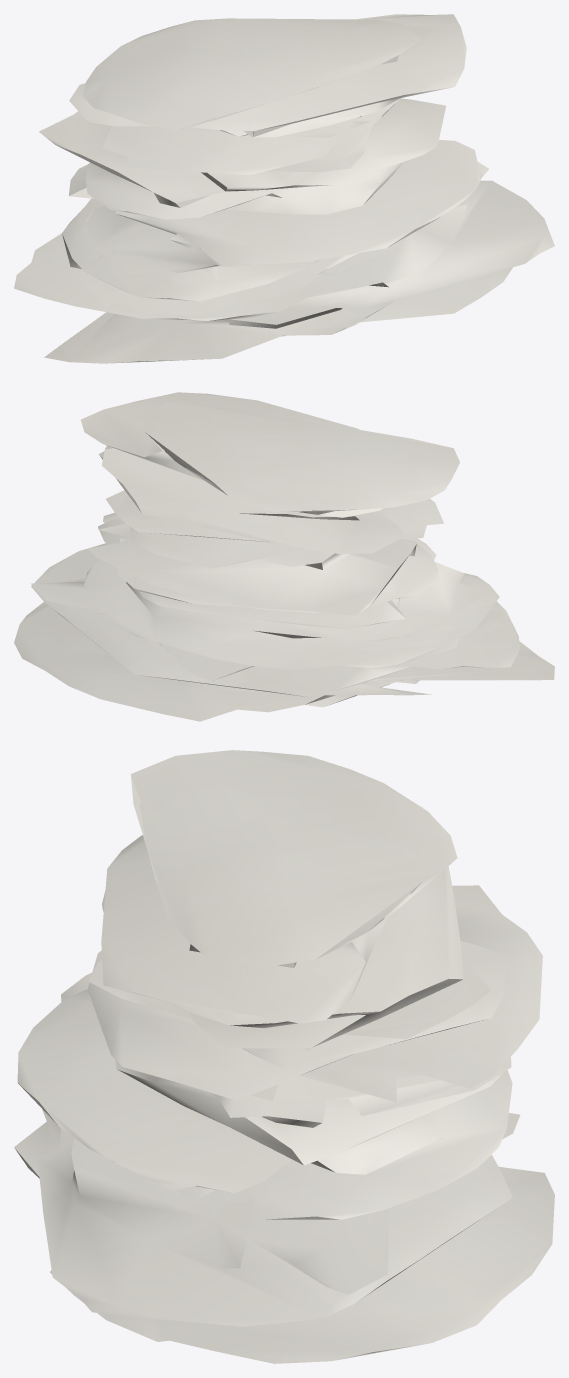
File: mineral_yeso.fbx
3 renders of one model, top to bottom at view 1: azimuth 30°, elevation 25°; view 2: azimuth 150°, elevation 25°; view 3: azimuth 270°, elevation 25°, orthographic. The views are drawn at different scales.
Visible parts, largest first — view 1: mineral_yeso_cristal; view 2: mineral_yeso_cristal; view 3: mineral_yeso_cristal.
Boxes of the visible parts, bbox=[...] form: mineral_yeso_cristal: bbox=[14, 14, 554, 363]; mineral_yeso_cristal: bbox=[14, 392, 554, 721]; mineral_yeso_cristal: bbox=[14, 750, 554, 1363].
Size of the model in its own units: 2.73 by 1.17 by 1.74.
Materials: 1 (1 with a texture image).
